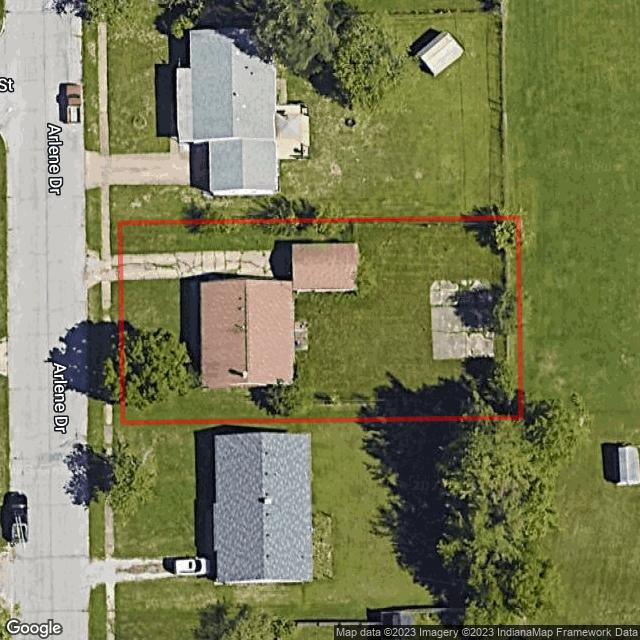Driveway: (124, 250, 290, 280)
Extra Driveway: (85, 251, 112, 281)
Extra Lawn: (88, 282, 102, 322), (89, 398, 105, 428), (86, 220, 100, 253)
Extra Sidewalk: (99, 282, 114, 319), (100, 219, 110, 261), (105, 404, 117, 422)
House: (199, 280, 295, 388)
Other: (431, 280, 494, 360), (292, 244, 357, 291)
